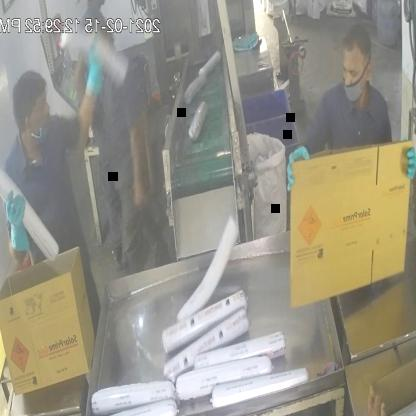glove: (81, 33, 111, 116), (1, 178, 29, 263)
no_glove: (127, 110, 150, 216)
